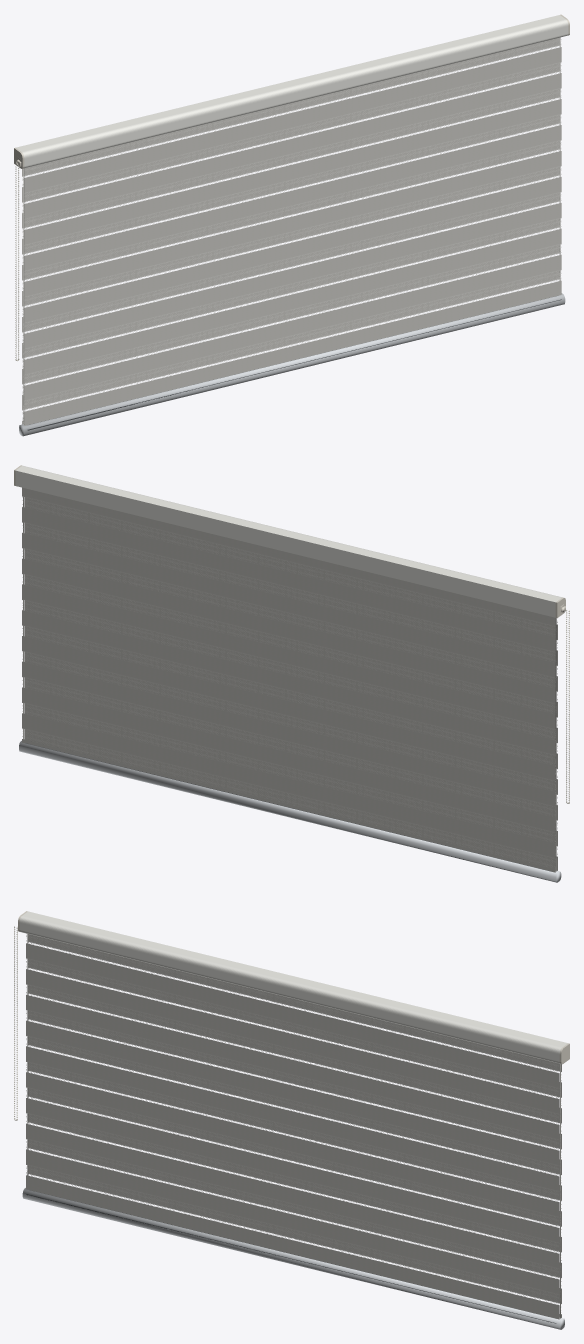
File: after-standard-260x120-left-cerrada.glb
The picture shows the model from 3 angles, top to bottom: view 1: azimuth 30°, elevation 25°; view 2: azimuth 150°, elevation 25°; view 3: azimuth 330°, elevation 25°; orthographic projection.
Parts seen in each view (by area): view 1: Tela_Frontal, Tela_Posterior, Cabezal_Standard_Plano, Perfil_Inferior, Inserto_Perfil_Inferior; view 2: Tela_Posterior, Tela_Frontal, Cabezal_Standard_Plano, Perfil_Inferior; view 3: Tela_Frontal, Tela_Posterior, Cabezal_Standard_Plano, Perfil_Inferior, Inserto_Perfil_Inferior.
Part boxes in pixels (<box>): Tela_Frontal: <box>24,38,561,425</box>; Tela_Posterior: <box>22,37,559,424</box>; Cabezal_Standard_Plano: <box>16,15,568,168</box>; Perfil_Inferior: <box>19,293,565,436</box>; Inserto_Perfil_Inferior: <box>27,299,561,430</box>; Tela_Posterior: <box>22,487,555,872</box>; Tela_Frontal: <box>24,497,557,870</box>; Cabezal_Standard_Plano: <box>15,465,562,617</box>; Perfil_Inferior: <box>19,741,561,882</box>; Tela_Frontal: <box>26,935,559,1319</box>; Tela_Posterior: <box>28,934,561,1317</box>; Cabezal_Standard_Plano: <box>19,911,567,1063</box>; Perfil_Inferior: <box>22,1188,564,1329</box>; Inserto_Perfil_Inferior: <box>26,1194,556,1323</box>.
Size of the model in its own units: 2.67 by 1.32 by 0.072.
8 materials, 1 textured.
